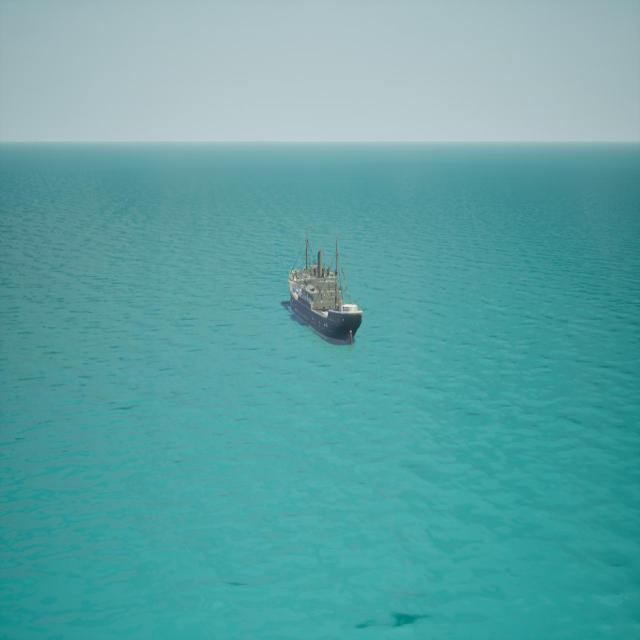fishing ship: (288, 234, 363, 345)
